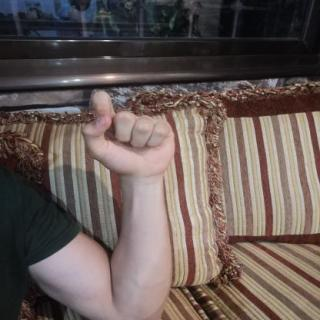FAA: (70, 82, 188, 186)
